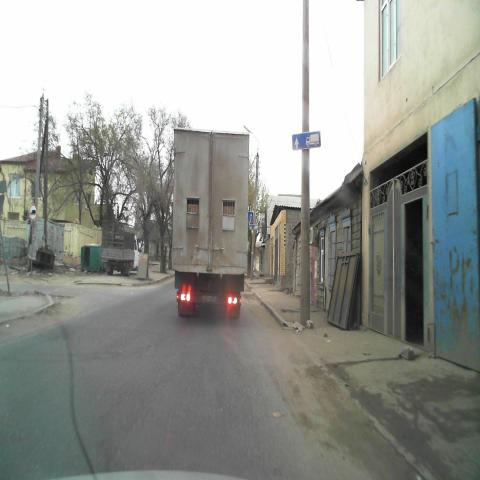3_4_1: (29, 204, 38, 220)
